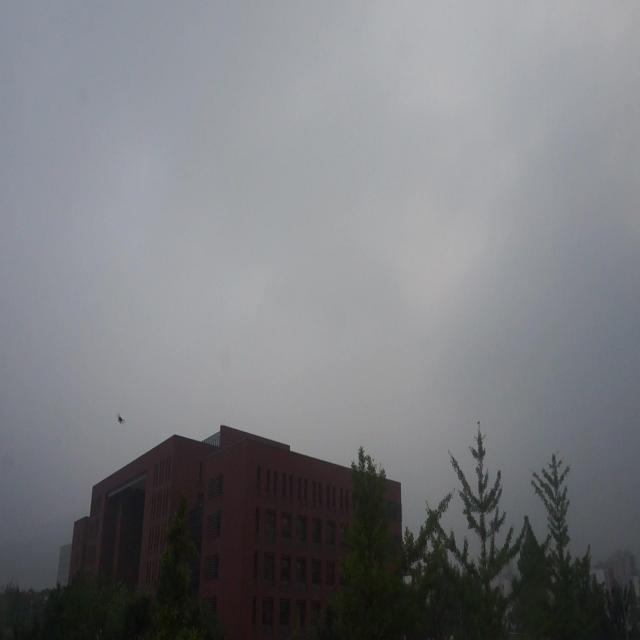UAV: (116, 413, 126, 424)
